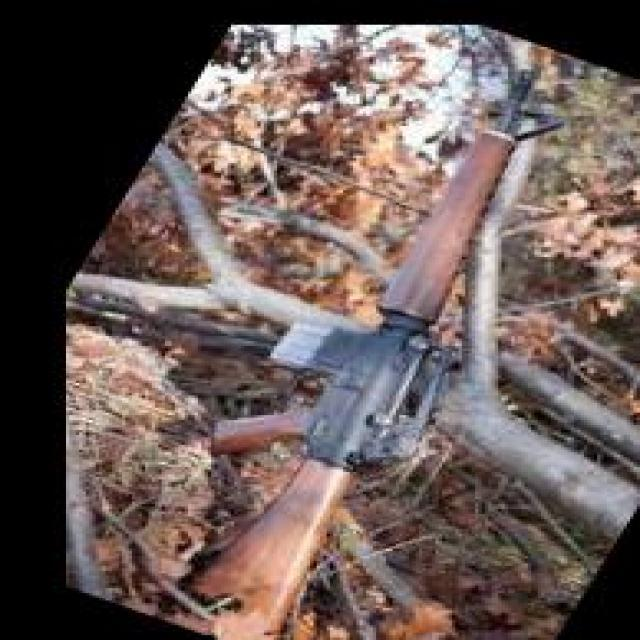weapon: (178, 66, 568, 636)
